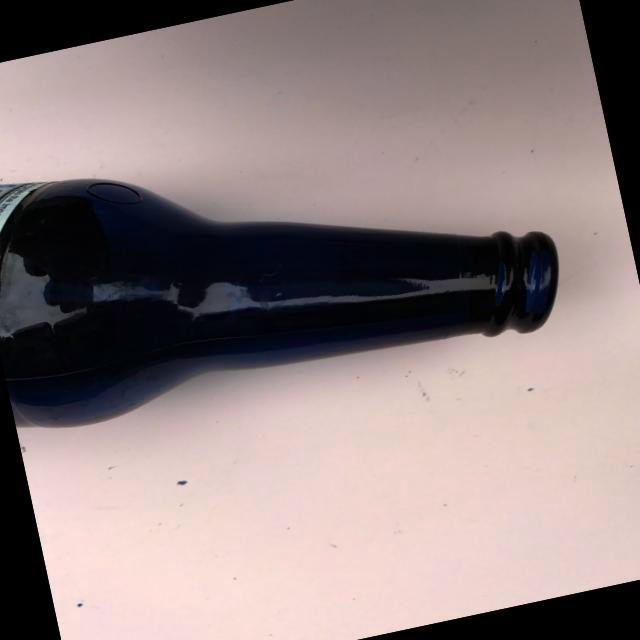glass: (0, 63, 585, 447)
